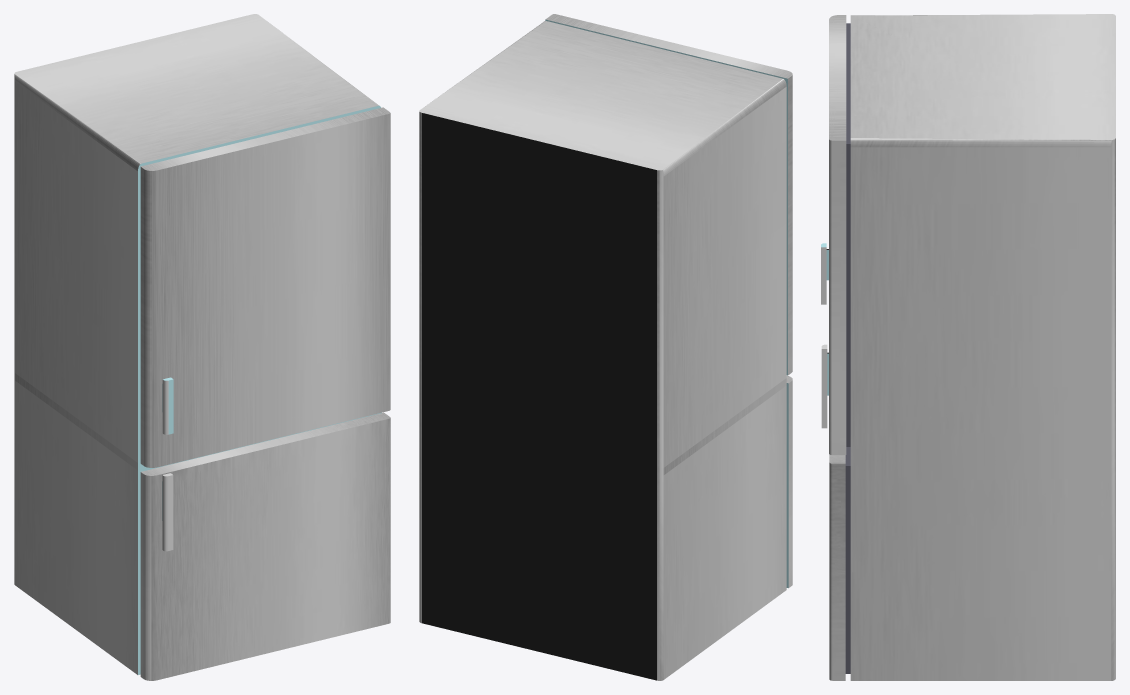
The model's file is fridge-00000.glb.
3 views of the same model, side by side, from view 1: azimuth 30°, elevation 25°; view 2: azimuth 150°, elevation 25°; view 3: azimuth 270°, elevation 25° (orthographic). The views are drawn at different scales.
Visible parts, largest first — view 1: Cube; view 2: Cube; view 3: Cube.
Part boxes in pixels (bbox=[...]): Cube: bbox=[14, 14, 390, 680]; Cube: bbox=[419, 14, 792, 680]; Cube: bbox=[821, 14, 1115, 680].
Size of the model in its own units: 0.9 by 1.8 by 0.8892.
5 materials, 1 textured.
